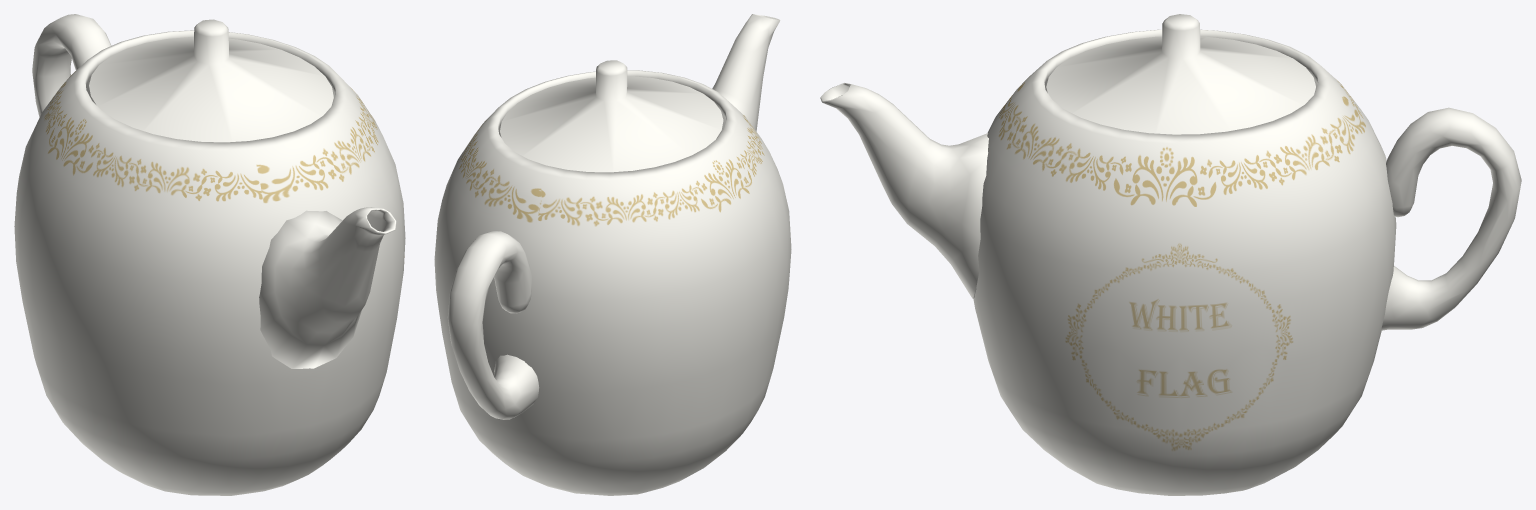
File: teapot.fbx
3 views of the same model, side by side, from view 1: azimuth 30°, elevation 25°; view 2: azimuth 150°, elevation 25°; view 3: azimuth 270°, elevation 25° (orthographic). The views are drawn at different scales.
Visible parts, largest first — view 1: teapot; view 2: teapot; view 3: teapot.
Part boxes in pixels (bbox=[...]): teapot: bbox=[14, 14, 405, 495]; teapot: bbox=[434, 14, 791, 495]; teapot: bbox=[820, 14, 1521, 495].
Size of the model in its own units: 195 by 244 by 355.
Materials: 1 (1 with a texture image).
